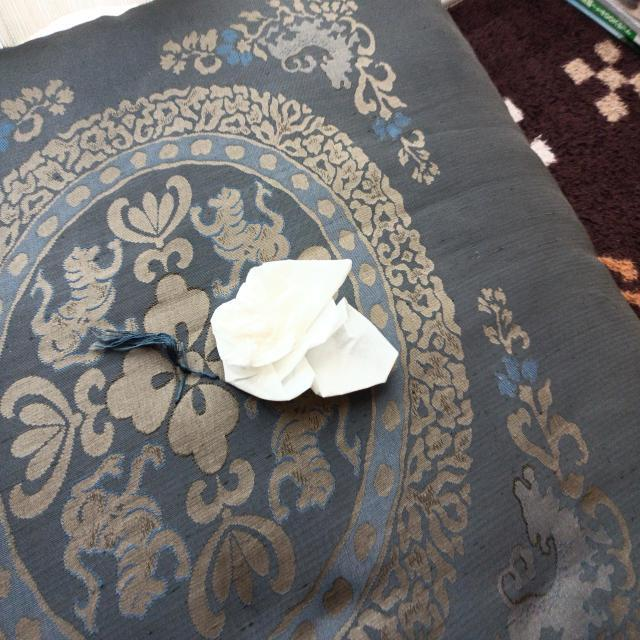Paper: (198, 251, 412, 453)
